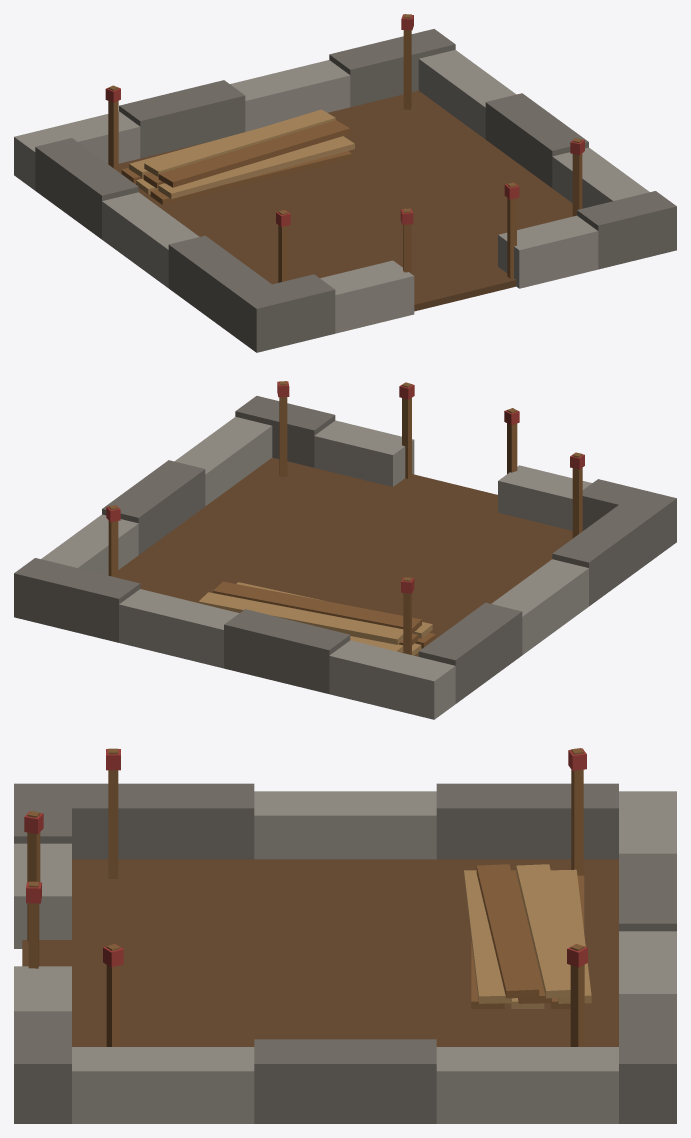
The model's file is site_4x4_1.glb.
3 views of the same model, one above another, from view 1: azimuth 30°, elevation 25°; view 2: azimuth 150°, elevation 25°; view 3: azimuth 270°, elevation 25° (orthographic). The views are drawn at different scales.
Visible parts, largest first — view 1: site_4x4_1; view 2: site_4x4_1; view 3: site_4x4_1.
Part boxes in pixels (box(x1,y1,x2,y2)): site_4x4_1: box(14, 14, 676, 352); site_4x4_1: box(14, 381, 676, 719); site_4x4_1: box(14, 748, 676, 1123).
Size of the model in its own units: 4 by 0.9 by 4.
